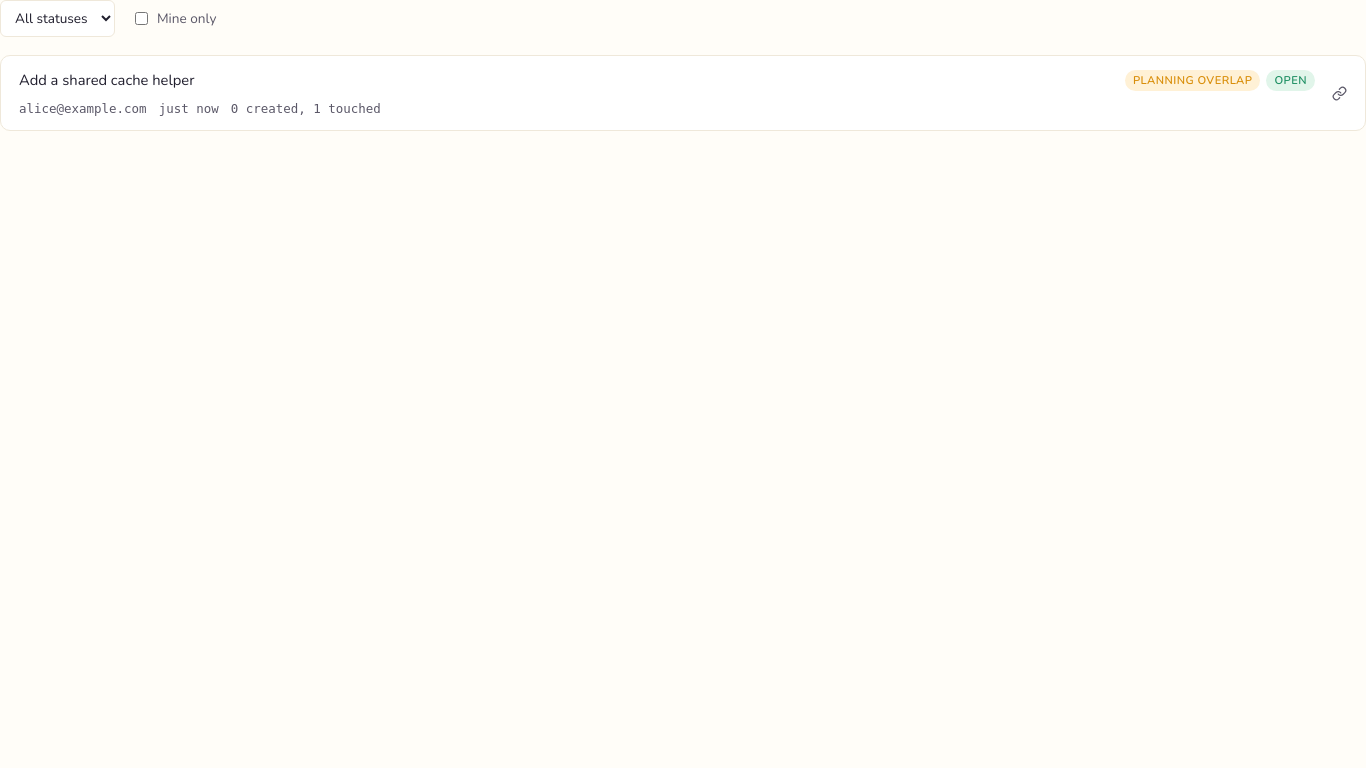
Test: DesignsView › an open design with an unresolved file_overlap shows a non-blocking 'Heads up' panel, not 'Why flagged'
The width and height of the screenshot is (1366, 768).
Expected: the text "Planning overlap" is shown, x1=1125 y1=70 x2=1260 y2=91
Click the button "Add a shared cache helper" at [107, 80], box x1=1 y1=56 x2=1365 y2=130
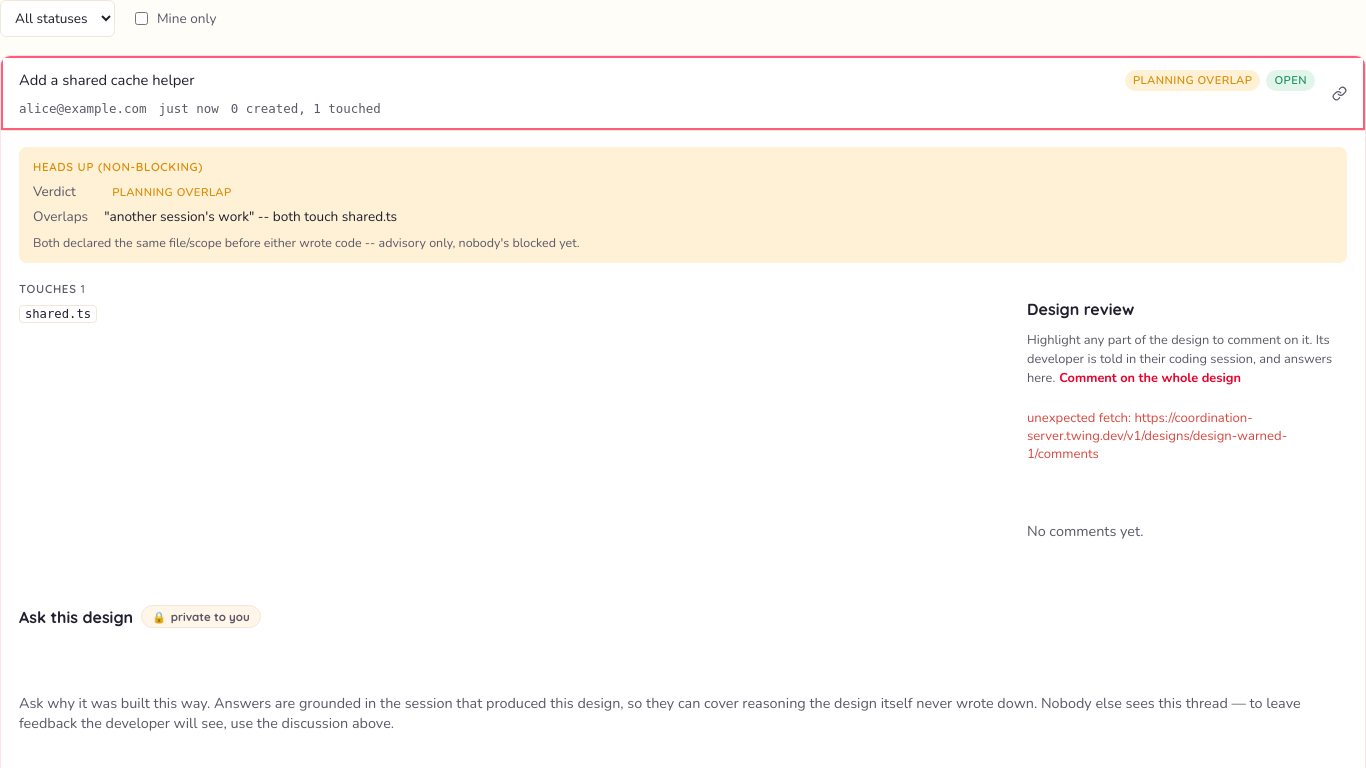
Expected: the heading "Heads up (non-blocking)" is shown, x1=33 y1=159 x2=203 y2=174
Expected: the text "\"another session's work\" -- both touch shared.ts" is shown, x1=104 y1=207 x2=397 y2=226
